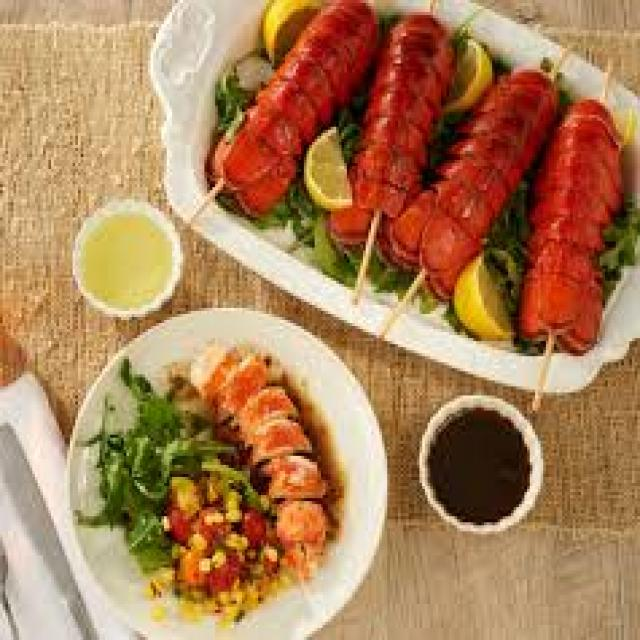Lemon: (454, 254, 513, 344), (302, 125, 353, 210)
Lobster Tail: (531, 100, 634, 275), (366, 15, 444, 192), (391, 174, 524, 266)
